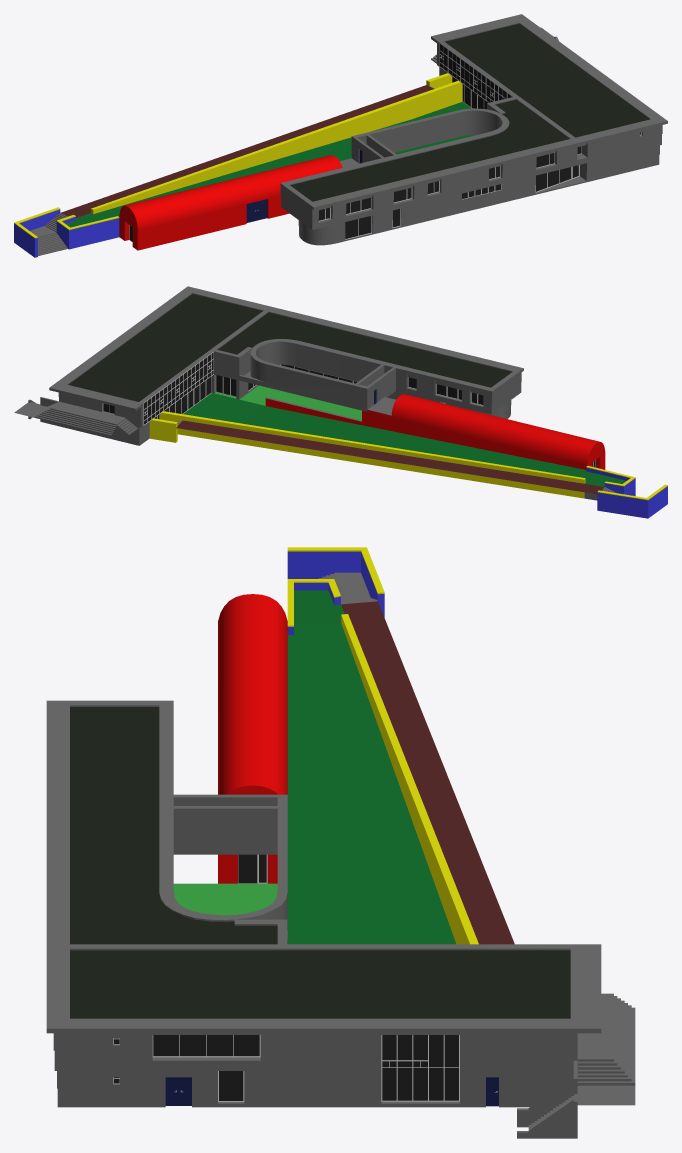
Rendered from wakeup.FBX.
3 views of the same model, one above another, from view 1: azimuth 30°, elevation 25°; view 2: azimuth 150°, elevation 25°; view 3: azimuth 270°, elevation 25° (orthographic). The views are drawn at different scales.
Visible parts, largest first — view 1: Object003; view 2: Object003; view 3: Object003.
Boxes of the visible parts, bbox=[...] form: Object003: bbox=[14, 14, 667, 257]; Object003: bbox=[14, 286, 667, 518]; Object003: bbox=[46, 547, 635, 1138].
Bounding box in the file's own units: 127 × 8.99 × 57.09.
